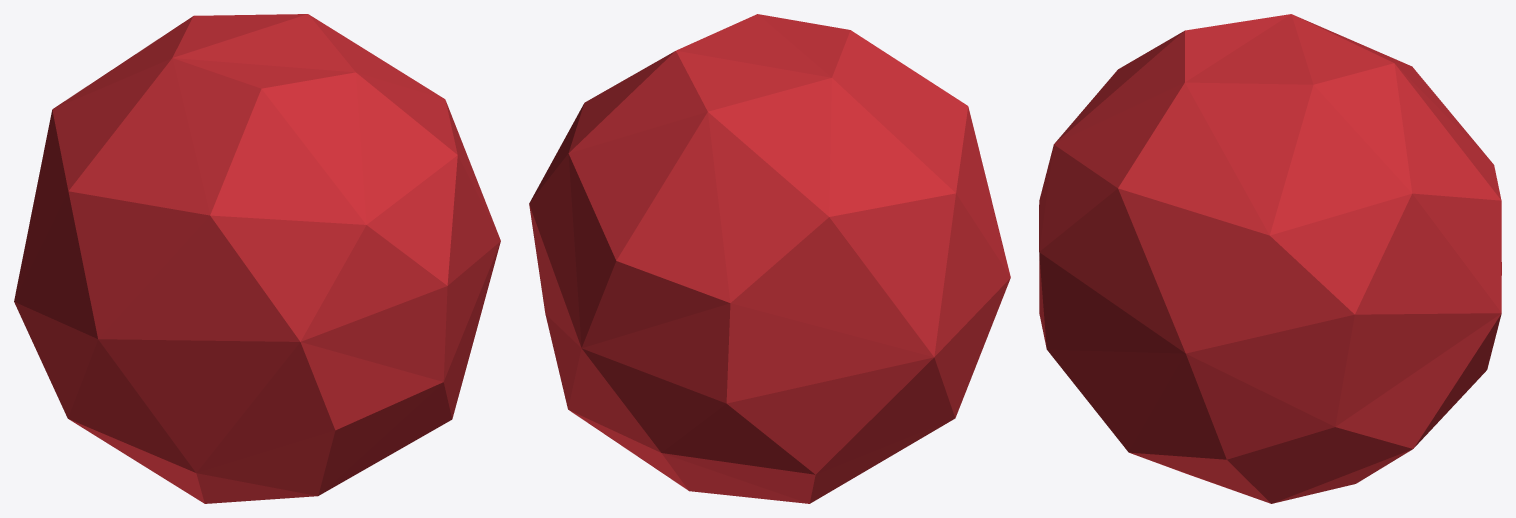
The model's file is shrub-round_red.glb.
3 renders of one model, left to right at view 1: azimuth 30°, elevation 25°; view 2: azimuth 150°, elevation 25°; view 3: azimuth 270°, elevation 25°, orthographic.
Parts seen in each view (by area): view 1: shrub-round_red; view 2: shrub-round_red; view 3: shrub-round_red.
Part boxes in pixels (x1,y1,x2,y2): shrub-round_red: [14, 14, 500, 503]; shrub-round_red: [529, 14, 1010, 503]; shrub-round_red: [1039, 14, 1501, 503].
Bounding box in the file's own units: 1.46 × 1.46 × 1.47.
Materials: 1 (1 with a texture image).
